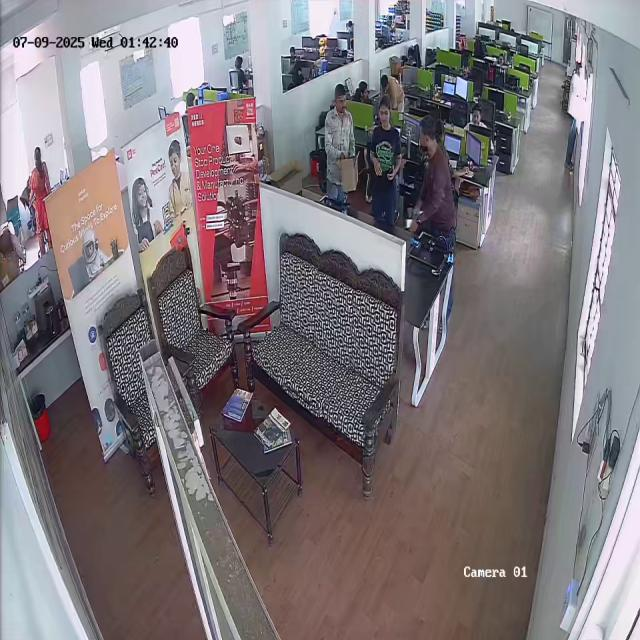person: (412, 115, 449, 247), (322, 82, 359, 202), (368, 97, 402, 224), (30, 146, 52, 252), (379, 75, 404, 104), (465, 104, 489, 134), (356, 81, 370, 101)
